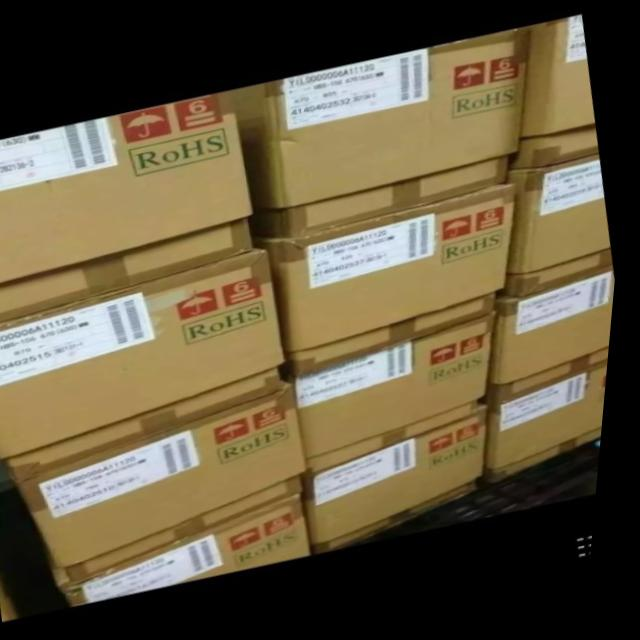box: (0, 250, 293, 461), (233, 27, 538, 214), (25, 383, 315, 572), (0, 90, 257, 283), (256, 183, 518, 353), (18, 364, 297, 487), (64, 470, 317, 589), (299, 313, 501, 459), (71, 492, 319, 608), (0, 215, 258, 323), (314, 407, 496, 544), (256, 158, 512, 241), (290, 292, 503, 383), (493, 346, 616, 476), (494, 269, 619, 384), (312, 396, 496, 474), (511, 156, 614, 274), (528, 14, 596, 137), (509, 250, 617, 296), (509, 124, 600, 170)
